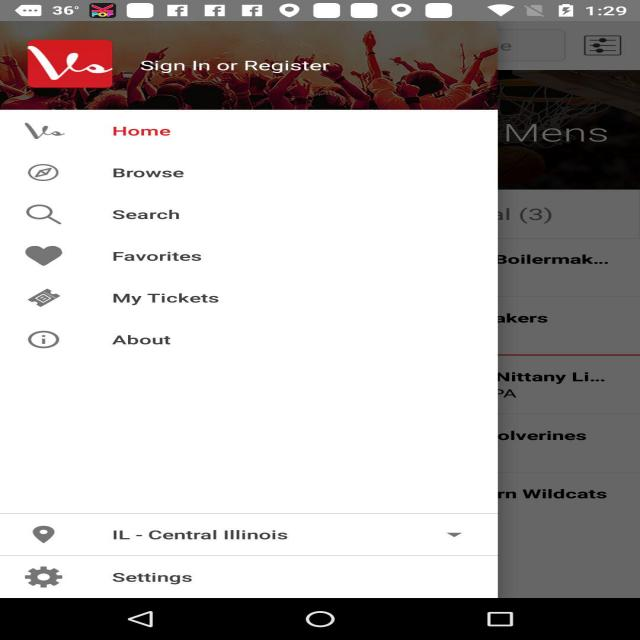button: (96, 125, 236, 350), (11, 518, 506, 557), (3, 560, 501, 598), (130, 52, 346, 88), (578, 22, 634, 66)
icon: (5, 115, 86, 357), (8, 33, 116, 97), (18, 523, 76, 592)
image: (0, 22, 498, 111)
text: (88, 118, 248, 355), (492, 230, 619, 516), (474, 106, 625, 153), (91, 524, 319, 551), (137, 55, 334, 82), (84, 569, 216, 588)
